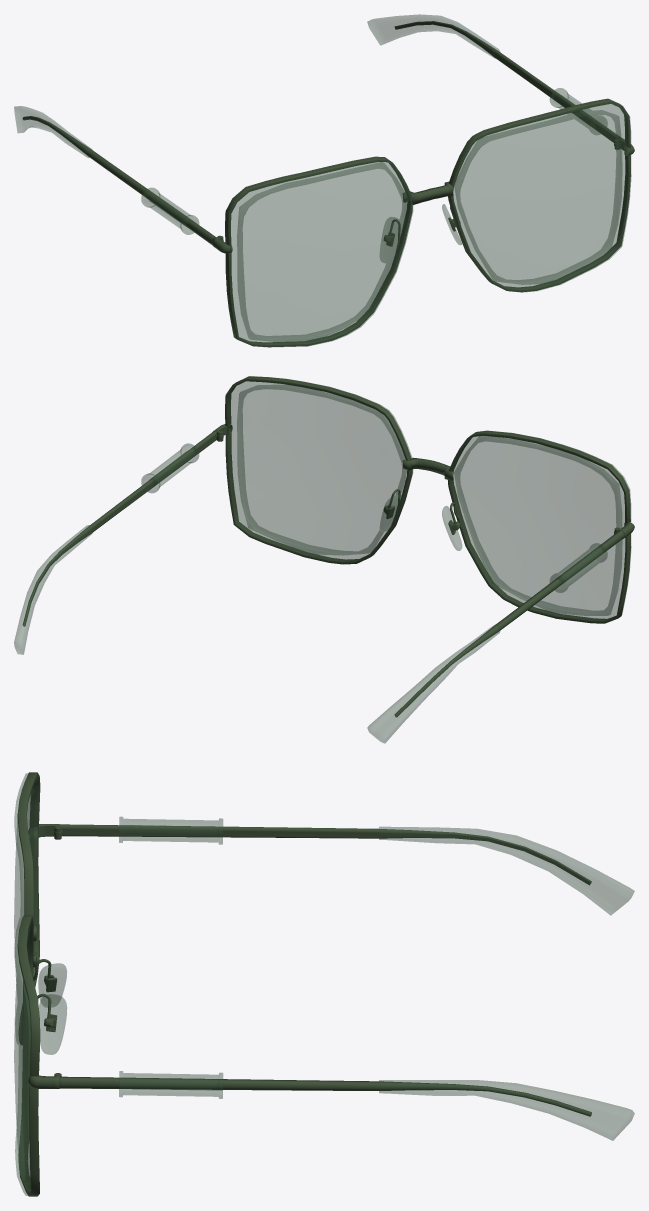
Rendered from kare-cerceve-zeytin-yesili.glb.
3 views of the same model, one above another, from view 1: azimuth 30°, elevation 25°; view 2: azimuth 150°, elevation 25°; view 3: azimuth 270°, elevation 25° (orthographic). The views are drawn at different scales.
Parts seen in each view (by area): view 1: OPTIK_PRODUCT_288; view 2: OPTIK_PRODUCT_288; view 3: OPTIK_PRODUCT_288.
Boxes of the visible parts, x1,y1,x2,y2 form: OPTIK_PRODUCT_288: [14, 14, 634, 347]; OPTIK_PRODUCT_288: [14, 376, 634, 743]; OPTIK_PRODUCT_288: [14, 772, 634, 1196].
Bounding box in the file's own units: 0.1621 × 0.0627 × 0.1604.
